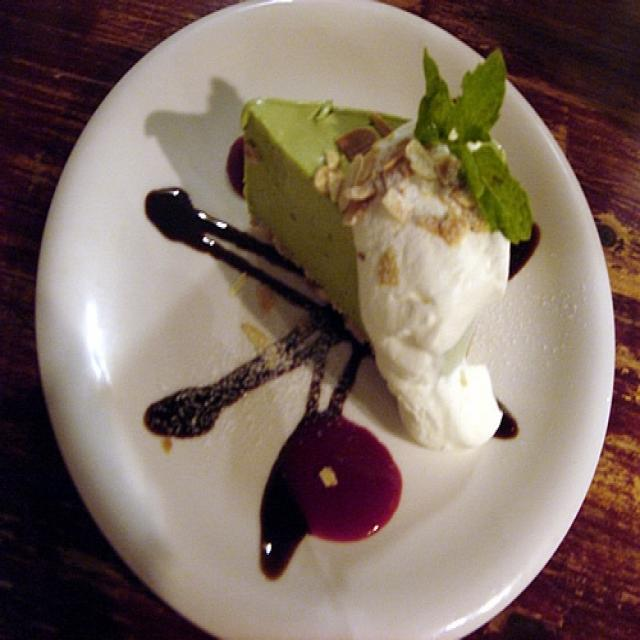Rare cheese cake: (172, 60, 569, 486)
